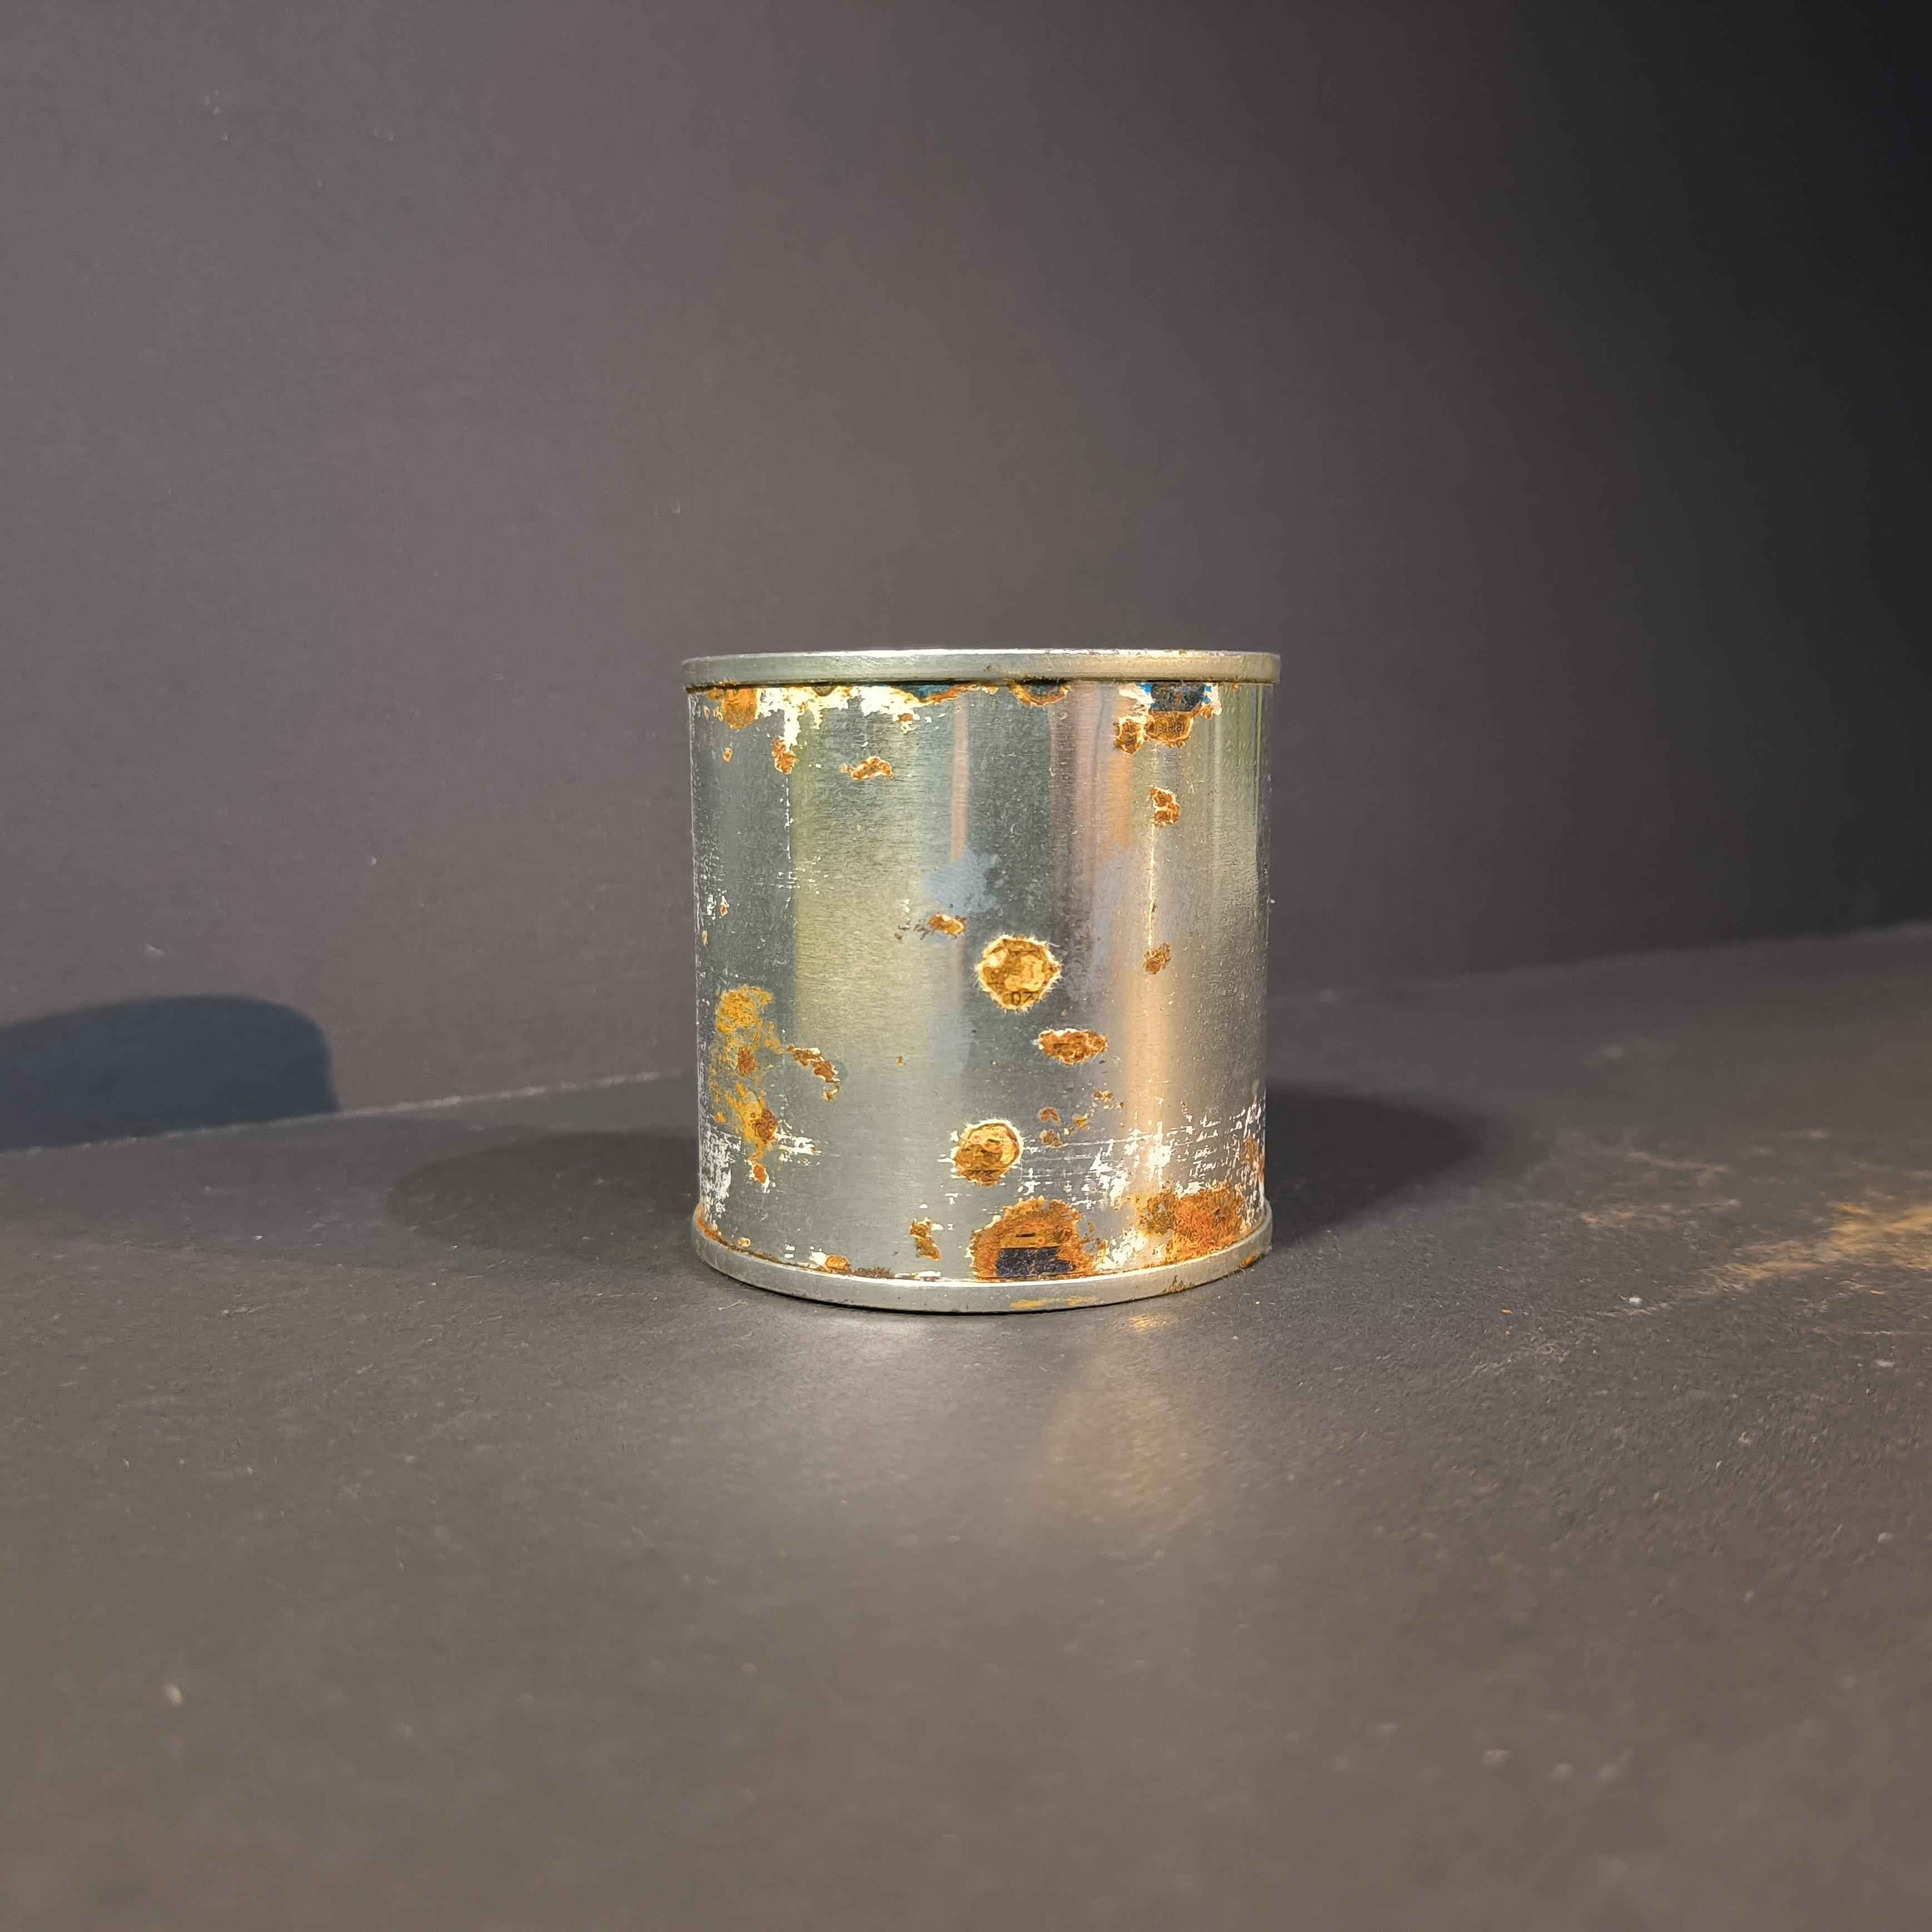Rusted: (656, 621, 1311, 1325)
